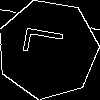L: (23, 24, 73, 60)
